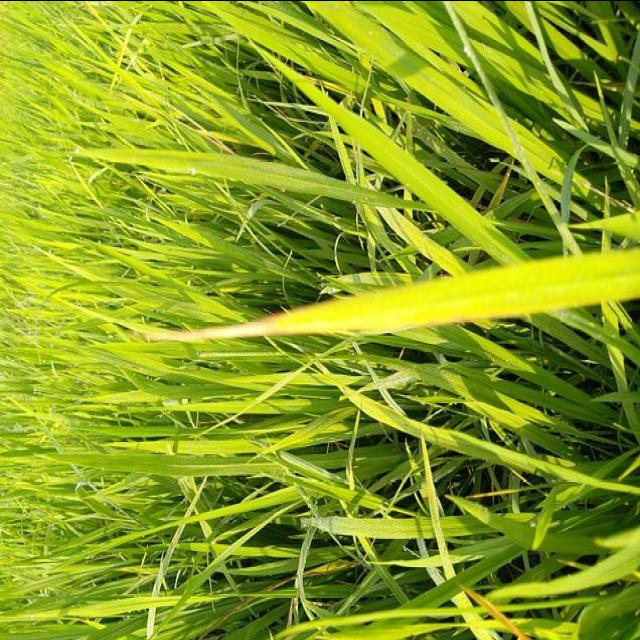Leaf Blight: (164, 289, 419, 340)
